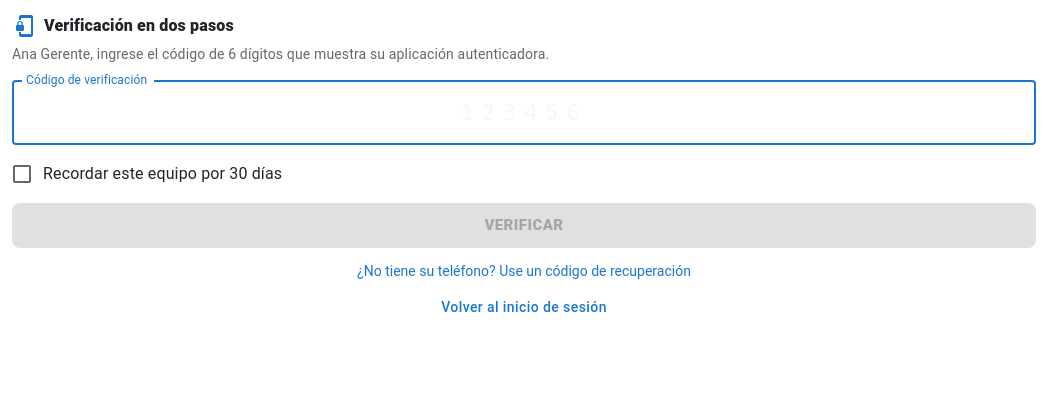
Scenario: MfaCodeStep (segundo paso del login) › bloqueo (429): informa cuánto esperar
In the field labelled "Código de verificación": point(524, 112) [12, 80, 1036, 145], type "000000"
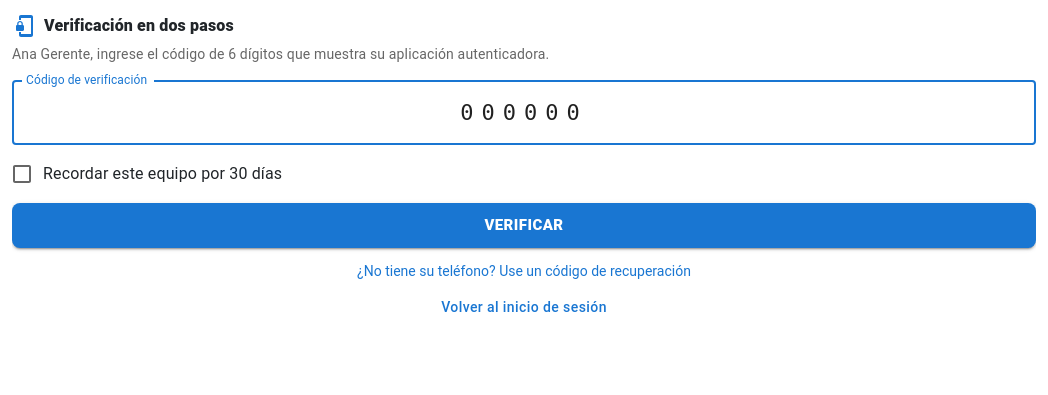
Click the button "Verificar": point(524, 225) [12, 203, 1036, 248]
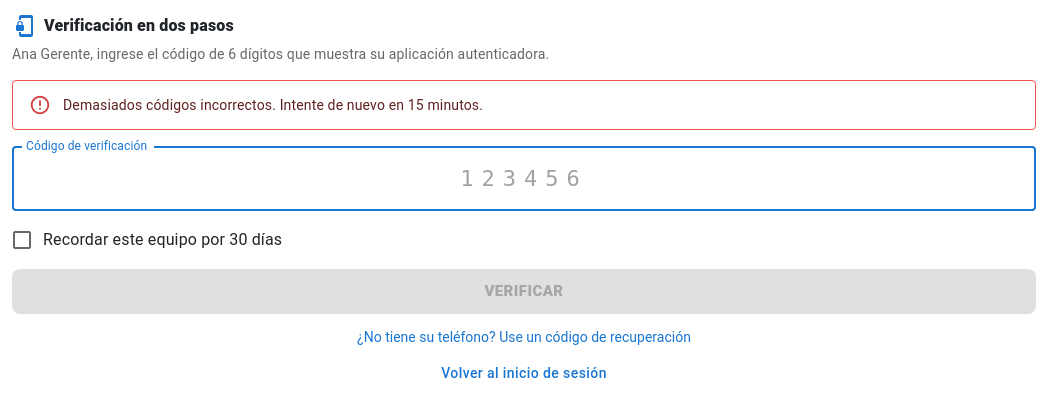
expect the text "Intente de nuevo en 15 minutos" is shown: met, box [63, 97, 483, 113]
